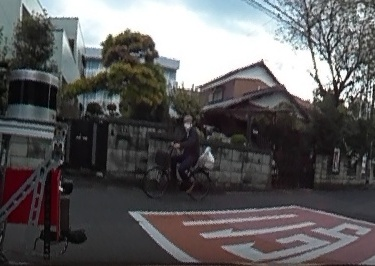person: (170, 115, 202, 196)
